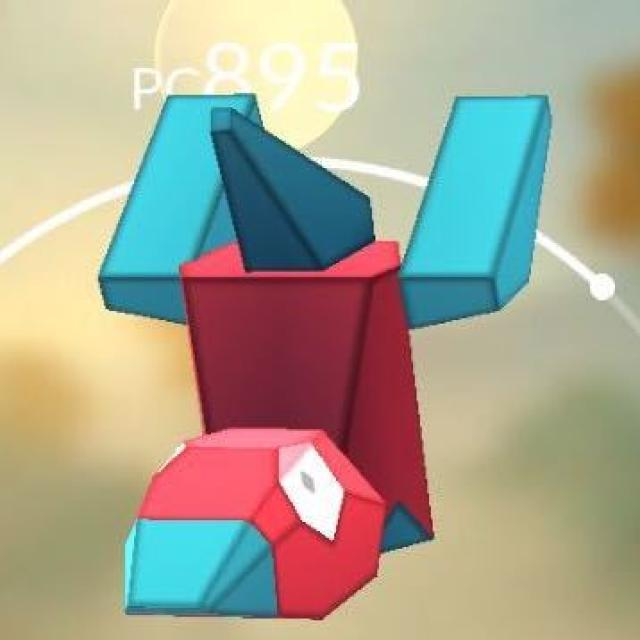Porygon: (102, 91, 504, 622)
